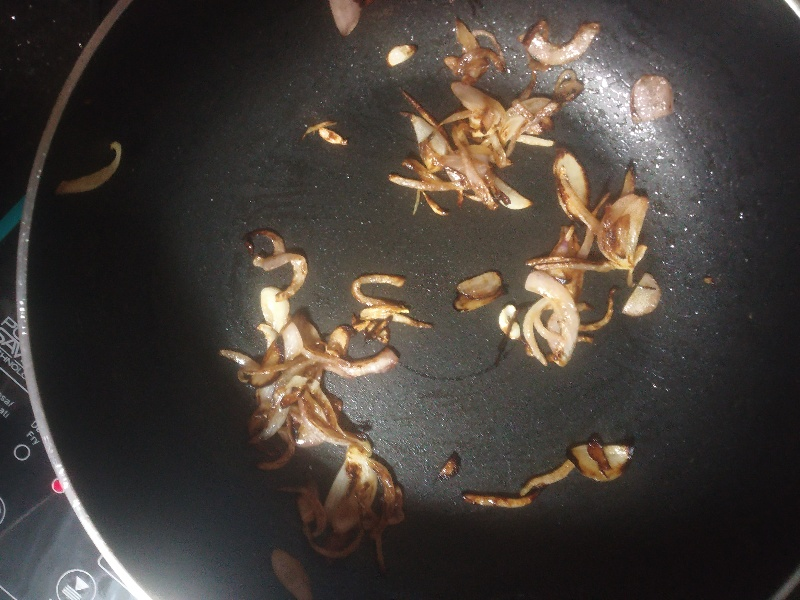onion_fried: (407, 84, 542, 217), (524, 148, 654, 282), (347, 270, 432, 348), (443, 20, 498, 82), (448, 270, 508, 313), (454, 489, 535, 511)
